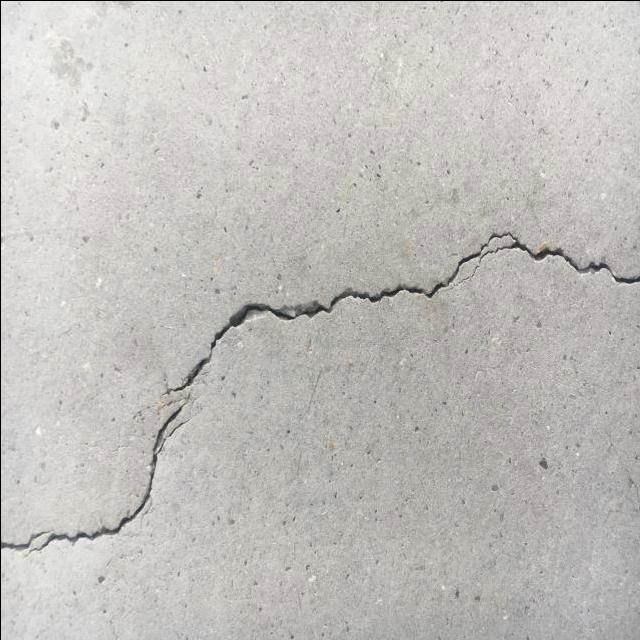SurfaceCrack: (2, 188, 640, 587)
